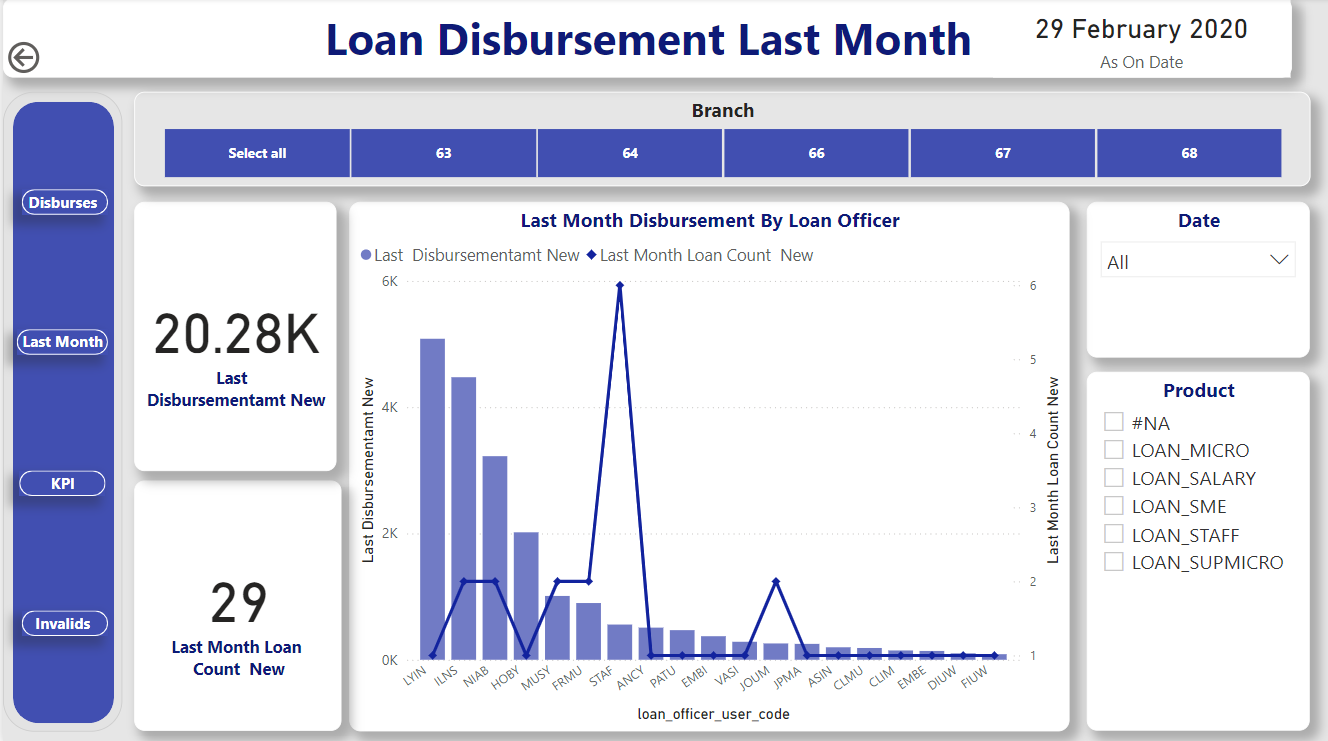

The dashboard page shown, as its layout file describes it:
{"tool":"powerbi","page":{"name":"Last Month","canvas":[1280,720],"ordinal":1},"visuals":[{"type":"shape","box":[0,90,126.2,617.5],"z":0},{"type":"slicer","title":"Date","fields":{"Values":["DimDate.FullDateAlternateKey.Variation.Date Hierarchy.Year","DimDate.FullDateAlternateKey.Variation.Date Hierarchy.Quarter","DimDate.FullDateAlternateKey.Variation.Date Hierarchy.Month","DimDate.FullDateAlternateKey.Variation.Date Hierarchy.Day"]},"box":[1046.2,196.2,215,150],"z":1000},{"type":"actionButton","box":[18.1,181.2,89.4,31.2],"z":2000},{"type":"lineClusteredColumnComboChart","title":"Last Month Disbursement By Loan Officer","fields":{"Category":["Dimension.loan_officer_user_code"],"Y":["FactLoan.Last  Disbursementamt New"],"Y2":["FactLoan.Last Month Loan Count  New"]},"box":[333.8,196.2,695,511.2],"z":3000},{"type":"actionButton","box":[15.6,315,94.4,31.2],"z":4000},{"type":"card","fields":{"Values":["FactLoan.Last Month Loan Count  New"]},"box":[126.2,466.2,200,241.2],"z":5000},{"type":"actionButton","box":[18.8,451.9,89.4,30.6],"z":6000},{"type":"slicer","title":"Product","fields":{"Values":["Dimension.product_key"]},"box":[1046.2,361.2,215,346.2],"z":7000},{"type":"actionButton","box":[18.1,586.9,89.4,31.9],"z":8000},{"type":"card","fields":{"Values":["FactLoan.Last  Disbursementamt New"]},"box":[126.2,196.2,195,260],"z":9000},{"type":"textbox","box":[0,0,1244.3,77.1],"z":10000},{"type":"card","fields":{"Values":["Max(DimDate.FullDateAlternateKey)"]},"box":[955.7,0,287.1,77.1],"z":11000},{"type":"slicer","title":"Branch","fields":{"Values":["Dimension.branch_key"]},"box":[126.2,90,1135,91.2],"z":12000},{"type":"actionButton","box":[0,37.1,60,40],"z":13000}]}

Visuals, with their boxes in screenshot pixels (x1, y1, x2, y2), scaled from the page's 1280x720 canvas onto the 1328x741 screenshot:
shape: bbox(0, 93, 131, 728)
"Date" slicer: bbox(1085, 202, 1308, 356)
actionButton: bbox(19, 186, 112, 219)
"Last Month Disbursement By Loan Officer" lineClusteredColumnComboChart: bbox(346, 202, 1067, 728)
actionButton: bbox(16, 324, 114, 356)
card - FactLoan.Last Month Loan Count  New: bbox(131, 480, 338, 728)
actionButton: bbox(20, 465, 112, 497)
"Product" slicer: bbox(1085, 372, 1308, 728)
actionButton: bbox(19, 604, 112, 637)
card - FactLoan.Last  Disbursementamt New: bbox(131, 202, 333, 470)
textbox: bbox(0, 0, 1291, 79)
card - Max(DimDate.FullDateAlternateKey): bbox(992, 0, 1289, 79)
"Branch" slicer: bbox(131, 93, 1308, 186)
actionButton: bbox(0, 38, 62, 79)
